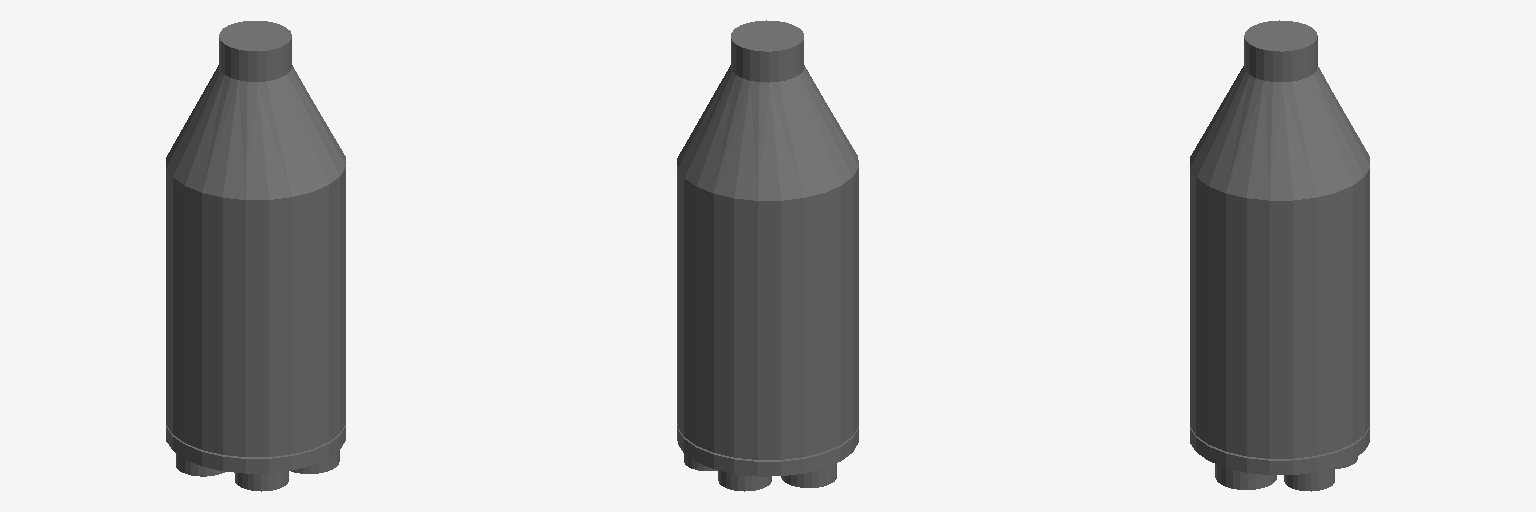
URDF robot description (object):
<?xml version="1.0"?>
<robot name="object">
  <link name="object">
    <visual>
      <origin xyz="0 0 0"/>
      <geometry>
        <mesh
          filename="../../mesh/oakink_virtual/cylinder_bottle_s302.stl" />
      </geometry>
      <material name="mat">
        <color rgba="0.5 0.5 0.5 1"/>
      </material>
    </visual>

    <collision>
      <origin xyz="0 0 0"/>
      <geometry>
        <mesh
          filename="../../mesh/oakink_virtual/cylinder_bottle_s302.stl" />
      </geometry>
    </collision>
  </link>
</robot>

--- Render facts (derived) ---
Views: 3 orthographic renders of the robot side by side, from view 1: azimuth 30°, elevation 25°; view 2: azimuth 150°, elevation 25°; view 3: azimuth 270°, elevation 25°.
Model object with 1 links and 0 joints (none), rooted at object, posed every joint at zero.
Links seen in each view (by area): view 1: object; view 2: object; view 3: object.
Boxes of the visible links, <box> form: object: <box>166,21,345,491</box>; object: <box>677,20,858,491</box>; object: <box>1190,20,1369,491</box>.
Bounding box of the posed robot: 0.0873 × 0.0873 × 0.2253 m (x, y, z).
1 mesh visuals loaded from 1 distinct referenced files (1 binary STL).